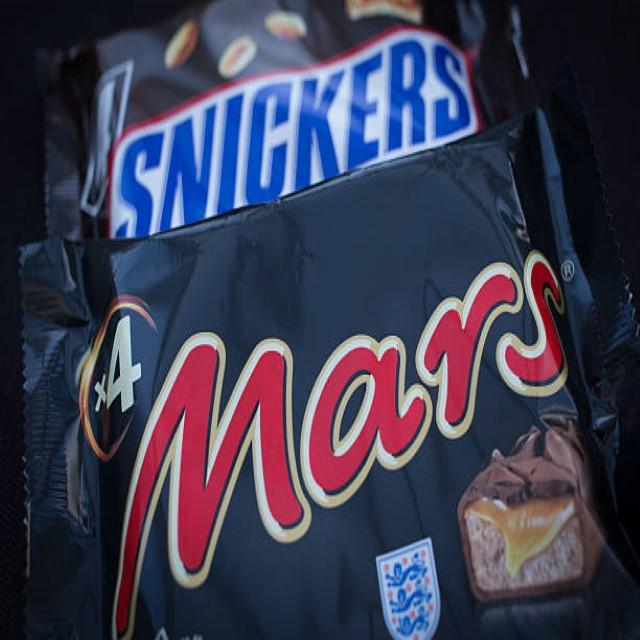mars_chocolate: (105, 198, 590, 614)
snickers_chocolate: (45, 20, 513, 222)
